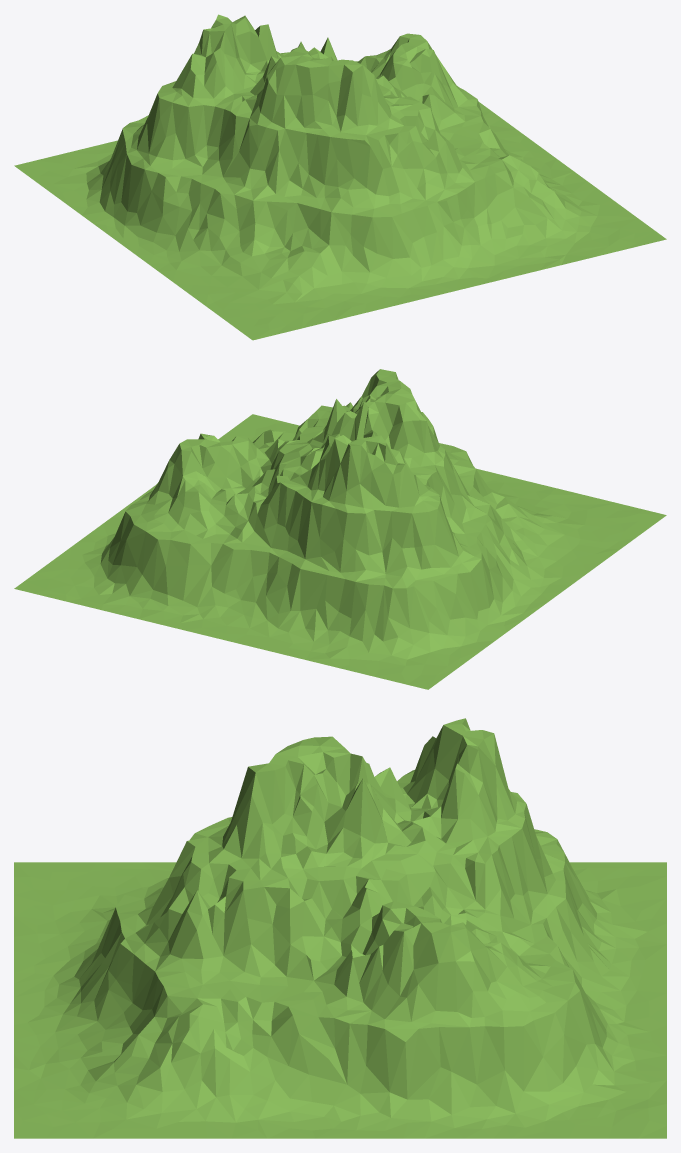
File: MT_Terrain_L_c_23_LOD.fbx
3 renders of one model, top to bottom at view 1: azimuth 30°, elevation 25°; view 2: azimuth 150°, elevation 25°; view 3: azimuth 270°, elevation 25°, orthographic. The views are drawn at different scales.
Parts seen in each view (by area): view 1: MT_Terrain_L_c_23_LOD0; view 2: MT_Terrain_L_c_23_LOD0; view 3: MT_Terrain_L_c_23_LOD0.
Part boxes in pixels (bbox=[...]): MT_Terrain_L_c_23_LOD0: bbox=[14, 14, 666, 340]; MT_Terrain_L_c_23_LOD0: bbox=[14, 369, 666, 689]; MT_Terrain_L_c_23_LOD0: bbox=[14, 718, 666, 1138].
Size of what is drawn, in the model's own units: 10021 by 3797 by 10000.
